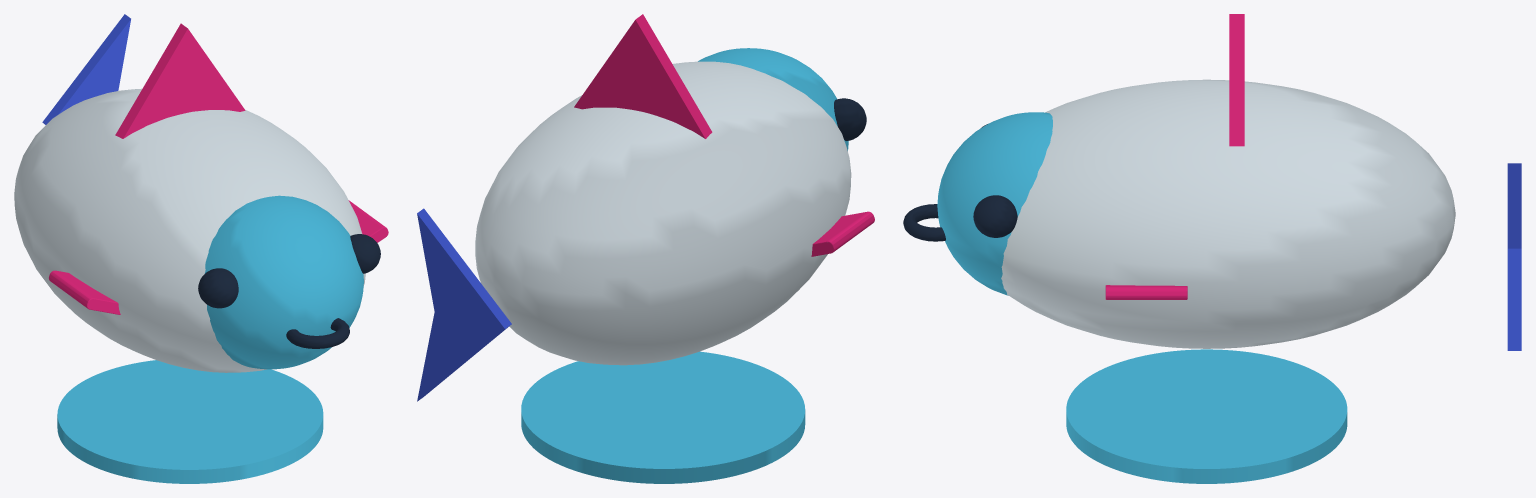
Rendered from 0136_海洋动物图鉴_幽灵蛸.glb.
3 renders of one model, left to right at view 1: azimuth 30°, elevation 25°; view 2: azimuth 150°, elevation 25°; view 3: azimuth 270°, elevation 25°, orthographic. The views are drawn at different scales.
Visible parts, largest first — view 1: card_0136; view 2: card_0136; view 3: card_0136.
Part boxes in pixels (left/top/right/bottom): card_0136: left=14, top=14, right=388, bottom=483; card_0136: left=417, top=14, right=874, bottom=483; card_0136: left=903, top=14, right=1521, bottom=483.
Size of the model in its own units: 0.8105 by 1 by 1.35.
